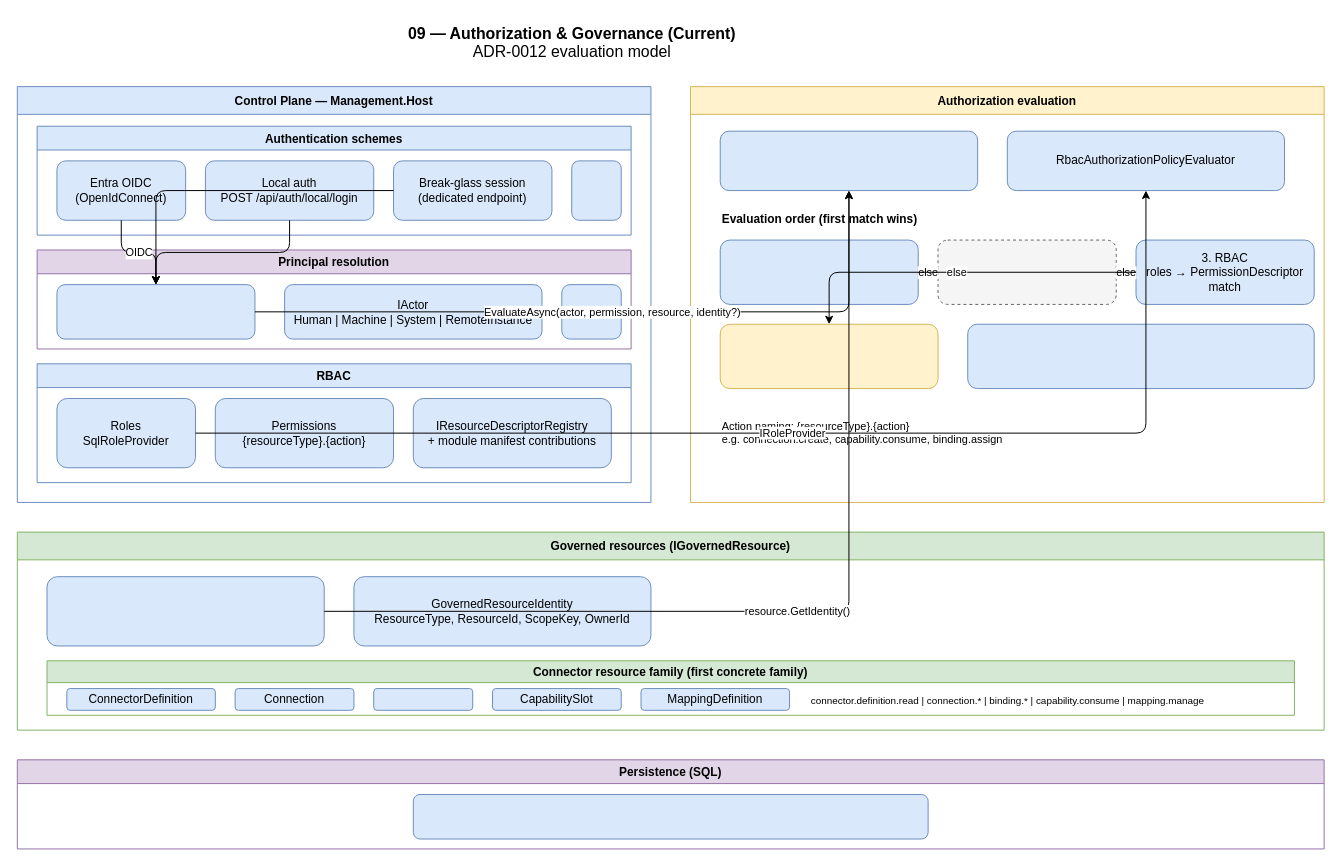
Some shapes in this 1341 by 866 pixel diagram are drawn without their labels. Each missing label, with the centre of its shape:
"1. Break-glass IsBreakGlassSession → grant all" belongs at point (818, 271).
"2. Relationship scopes (deferred)" belongs at point (1026, 271).
"4. Resource ownership / scope (reserved — partial)" belongs at point (828, 356).
"Binding" belongs at point (423, 699).
"Cookie session" belongs at point (596, 190).
"HostPrincipalContext ClaimsPrincipal → IActor" belongs at point (155, 311).
"IAuthorizationService DelegatingAuthorizationService" belongs at point (848, 160).
"IGovernedResource GetIdentity() → IGovernedResourceIdentity" belongs at point (185, 611).
"IScopeContainmentEvaluator instance ⊃ module:{id} ⊃ connection:{id}" belongs at point (1140, 356).
"SqlPrincipalToUserResolver IdentityLinks → UserId" belongs at point (591, 311).
"Users, Roles, IdentityLinks, UserRoles, AuditLogs" belongs at point (670, 816).
